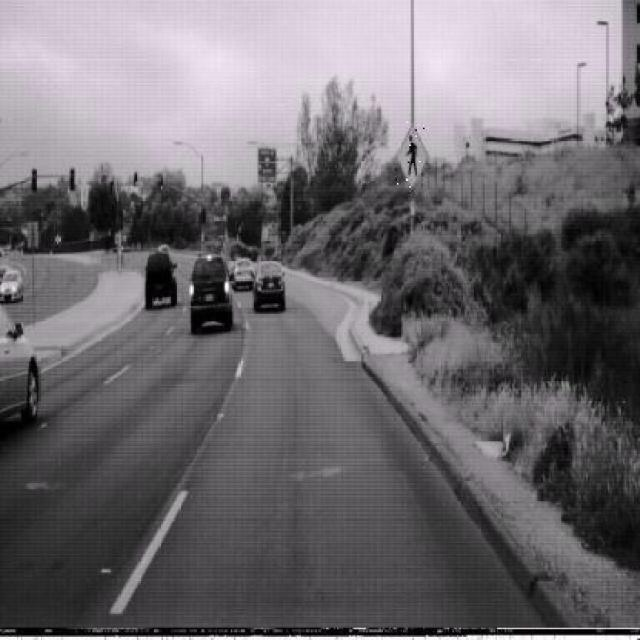pedestrianCrossing: (396, 122, 430, 190)
